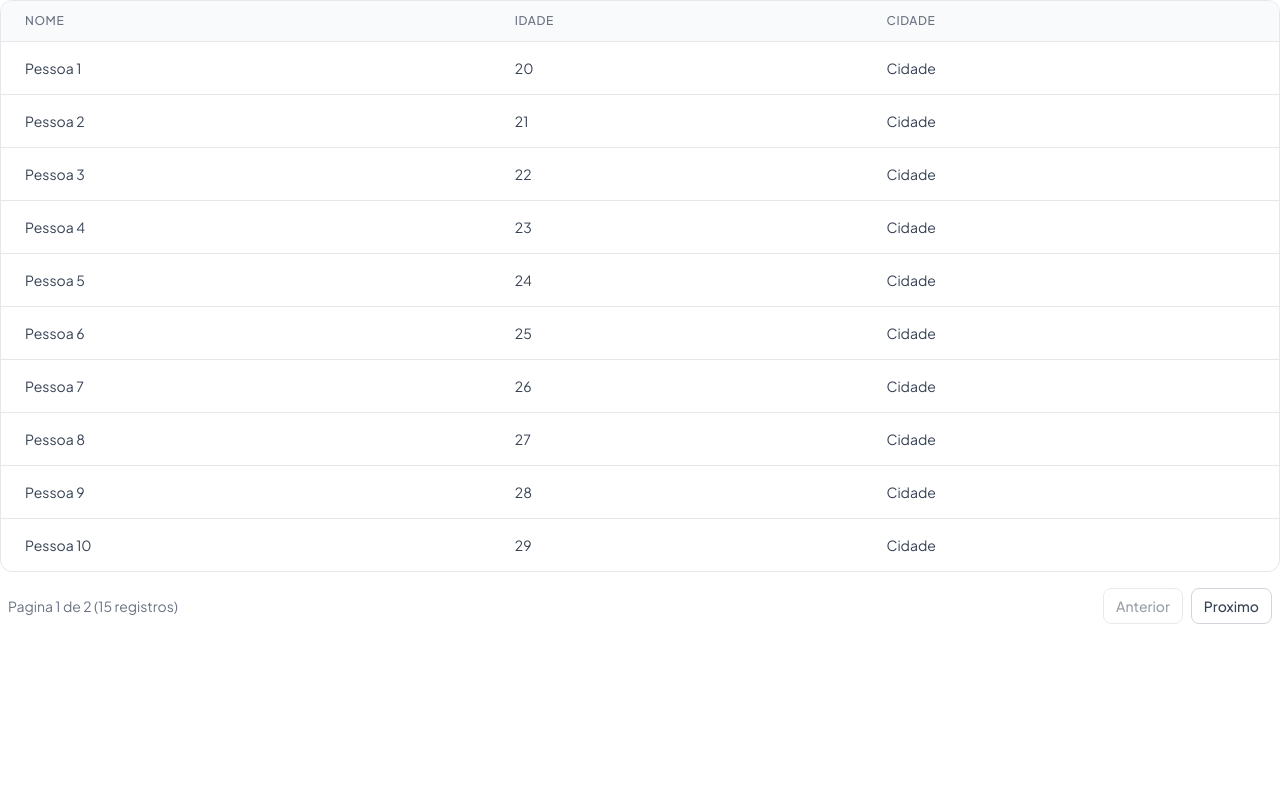
Test: DataTable › deve navegar entre paginas
Expected: the text "Pagina 1 de 2 (15 registros)" is shown, [8,596,178,616]
// Vai para proxima pagina
Click the button "Proximo". click: (1231, 606)
box: [1191,588,1272,624]
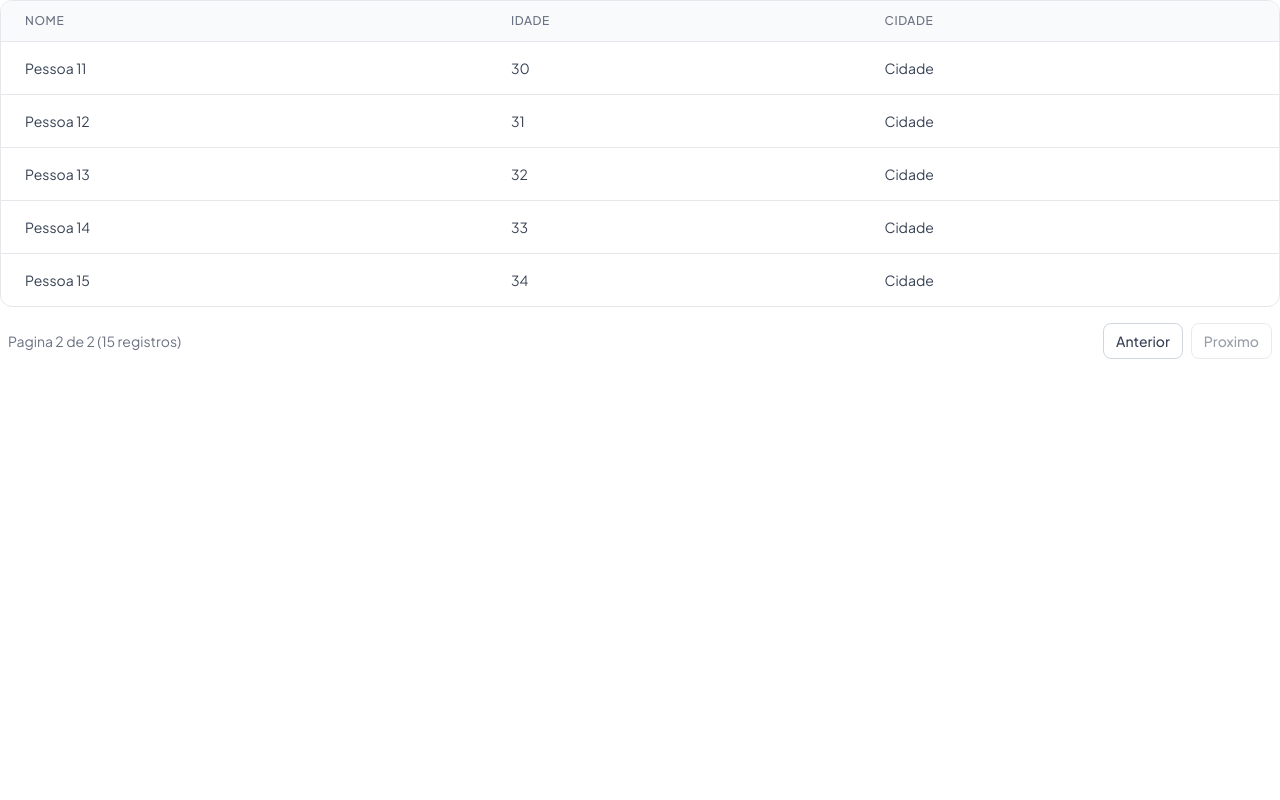
Result: the text "Pagina 2 de 2 (15 registros)" is shown at [8,331,181,351]
Result: the button "Proximo" is disabled at [1191,323,1272,359]
// Volta para pagina anterior
Click the button "Anterior". click: (1143, 341)
box: [1103,323,1183,359]
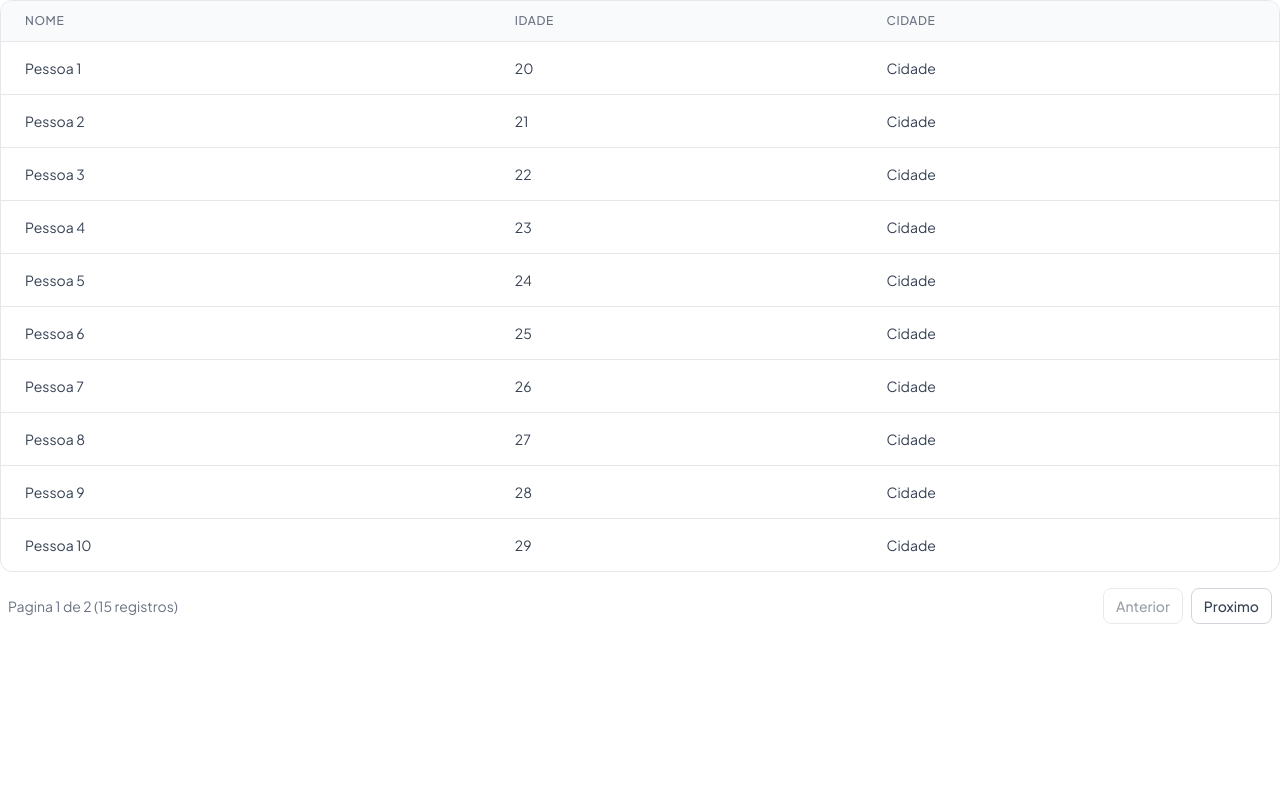
Result: the text "Pagina 1 de 2 (15 registros)" is shown at [8,596,178,616]
